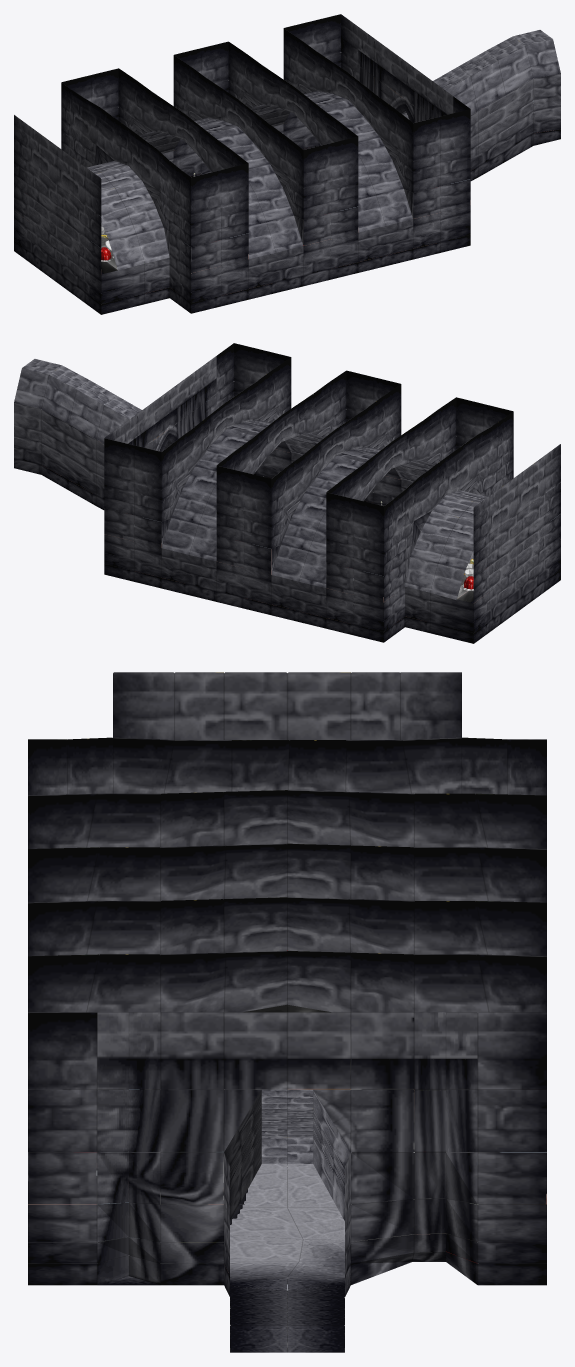
3 renders of one model, top to bottom at view 1: azimuth 30°, elevation 25°; view 2: azimuth 150°, elevation 25°; view 3: azimuth 270°, elevation 25°, orthographic. The views are drawn at different scales.
Visible parts, largest first — view 1: T1L6M007_45, T1L6M007_44, T1L6M007_72, T1L6M007_70, T1L6M007_68, T1L6M007_71, T1L6M007_67, T1L6M007_32, T1L6M007_49, T1L6M007_43, T1L6M007_73, T1L6M007_8 (+23 smaller); view 2: T1L6M007_6, T1L6M007_2, T1L6M007_8, T1L6M007_0, T1L6M007_1, T1L6M007_4, T1L6M007_44, T1L6M007_43, T1L6M007_12, T1L6M007_32, T1L6M007_7, T1L6M007_45 (+23 smaller); view 3: T1L6M007_66, T1L6M007_29, T1L6M007_42, T1L6M007_73, T1L6M007_7, T1L6M007_41, T1L6M007_38, T1L6M007_40, T1L6M007_36, T1L6M007_32, T1L6M007_44, T1L6M007_6 (+21 smaller).
Boxes of the visible parts, bbox=[...] form: T1L6M007_45: bbox=[73, 158, 144, 314]; T1L6M007_44: bbox=[485, 30, 560, 161]; T1L6M007_72: bbox=[376, 116, 440, 265]; T1L6M007_70: bbox=[266, 143, 330, 292]; T1L6M007_68: bbox=[221, 150, 275, 306]; T1L6M007_71: bbox=[331, 123, 385, 279]; T1L6M007_67: bbox=[181, 170, 220, 313]; T1L6M007_32: bbox=[41, 135, 126, 293]; T1L6M007_49: bbox=[127, 149, 181, 305]; T1L6M007_43: bbox=[433, 51, 505, 180]; T1L6M007_73: bbox=[440, 96, 470, 252]; T1L6M007_8: bbox=[14, 115, 41, 270]; T1L6M007_6: bbox=[134, 427, 209, 594]; T1L6M007_2: bbox=[244, 454, 318, 621]; T1L6M007_8: bbox=[430, 487, 501, 643]; T1L6M007_0: bbox=[354, 490, 405, 642]; T1L6M007_1: bbox=[299, 467, 359, 635]; T1L6M007_4: bbox=[189, 440, 249, 608]; T1L6M007_44: bbox=[14, 359, 89, 490]; T1L6M007_43: bbox=[69, 380, 141, 509]; T1L6M007_12: bbox=[405, 468, 458, 632]; T1L6M007_32: bbox=[459, 464, 533, 622]; T1L6M007_7: bbox=[104, 425, 134, 581]; T1L6M007_45: bbox=[533, 444, 560, 599]; T1L6M007_66: bbox=[97, 1012, 223, 1285]; T1L6M007_29: bbox=[351, 1012, 477, 1284]; T1L6M007_42: bbox=[224, 1012, 350, 1297]; T1L6M007_73: bbox=[28, 1012, 97, 1285]; T1L6M007_7: bbox=[477, 1012, 546, 1285]; T1L6M007_41: bbox=[160, 951, 350, 1261]; T1L6M007_38: bbox=[160, 843, 350, 901]; T1L6M007_40: bbox=[224, 897, 350, 1207]; T1L6M007_36: bbox=[164, 740, 346, 1012]; T1L6M007_32: bbox=[224, 672, 350, 740]; T1L6M007_44: bbox=[230, 1126, 344, 1352]; T1L6M007_6: bbox=[413, 954, 546, 1242].
Size of the model in its own units: 35.62 by 12.69 by 16.38.
